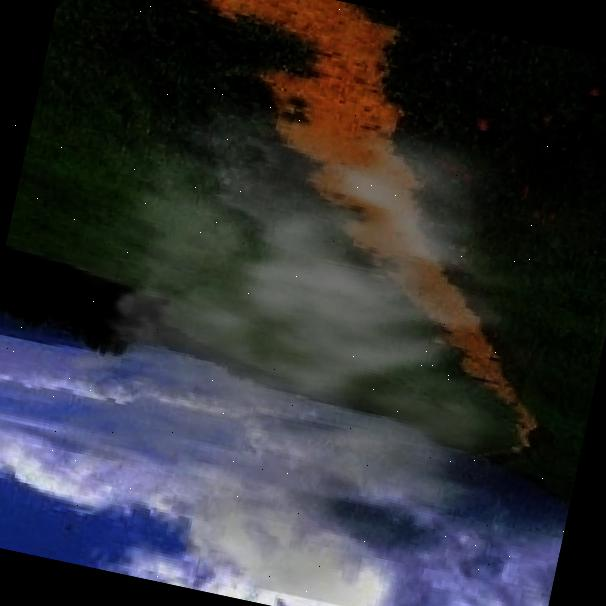smoke: (0, 21, 596, 606)
